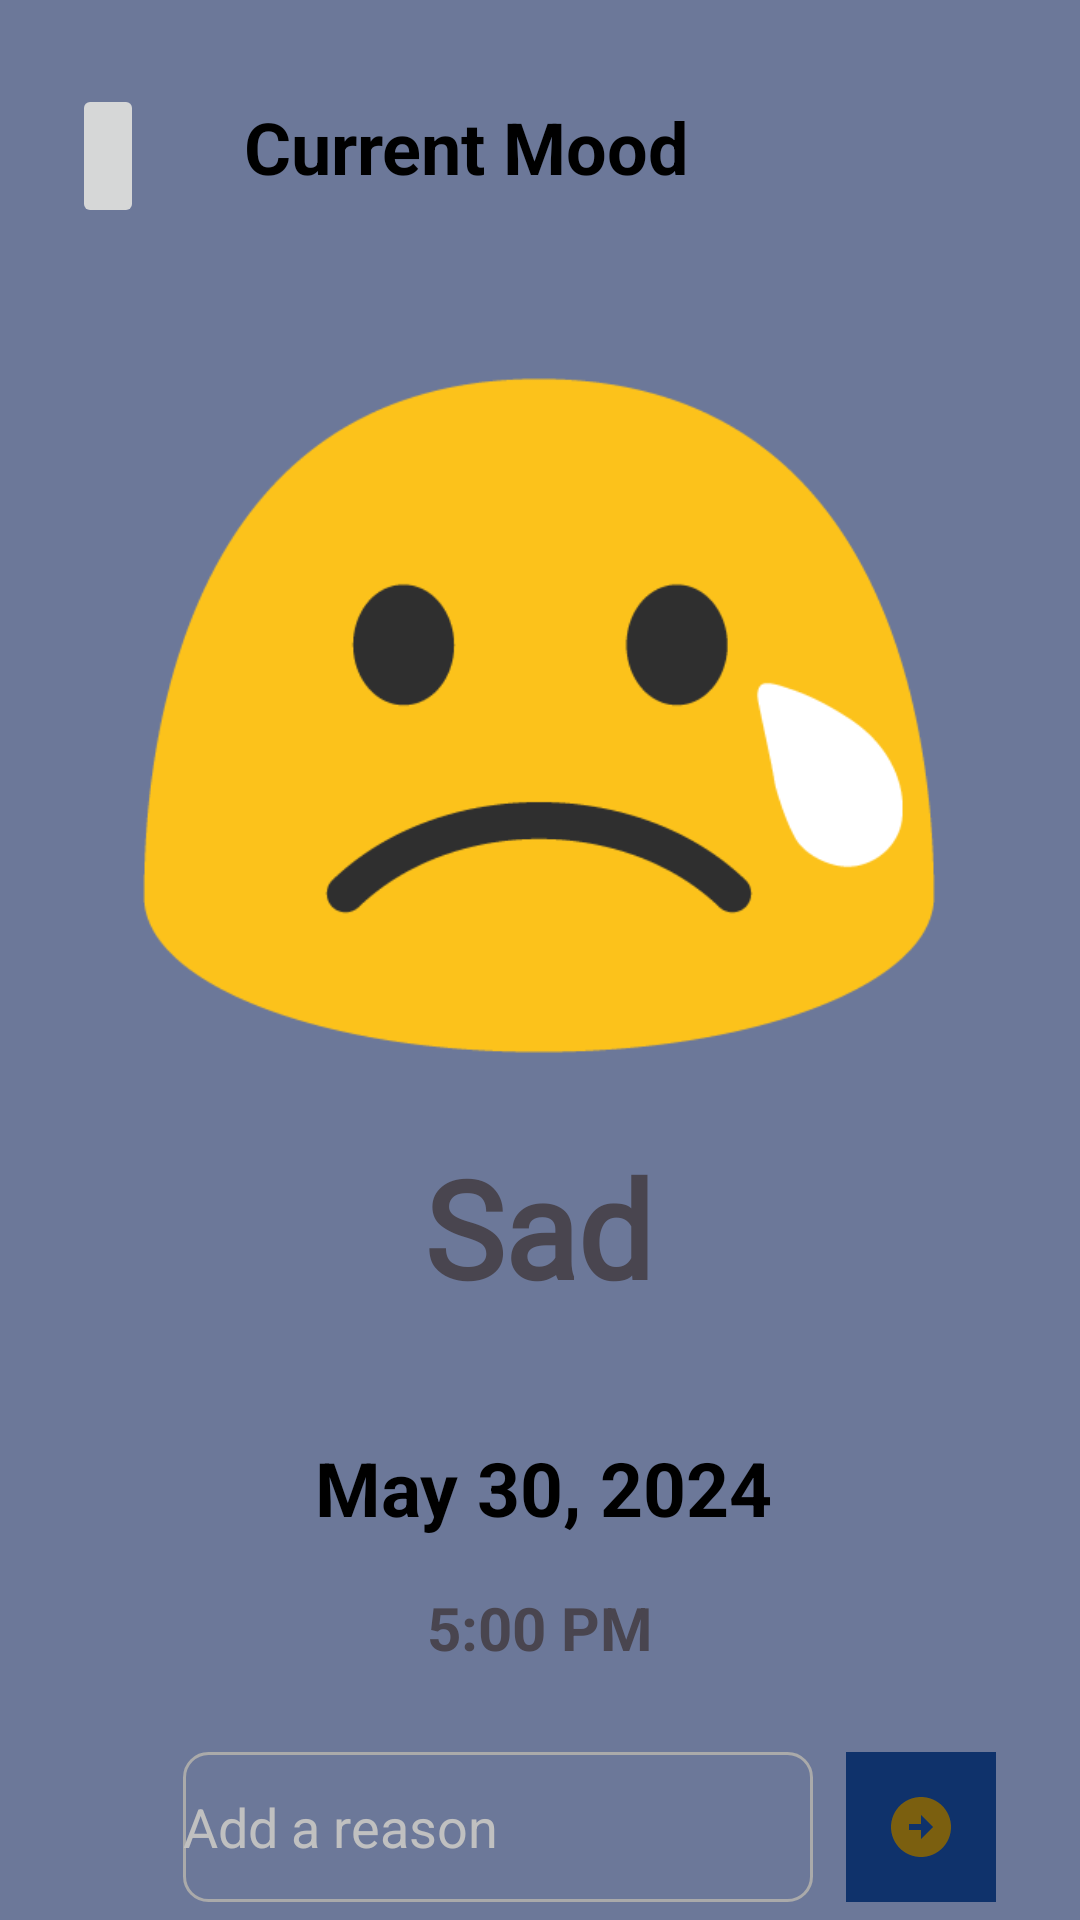

Icons on this 1080 × 1920 Android screen, each with its box as (x1, y1, x2, y2):
arrow circle right: (846, 1752, 996, 1902)
